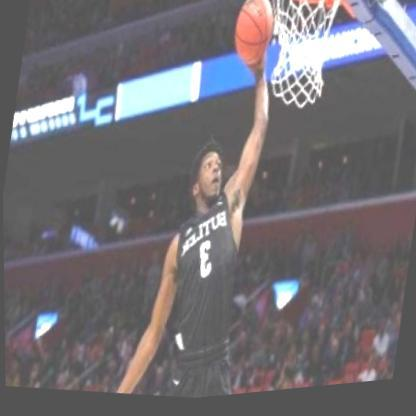basketball: (220, 0, 283, 81)
rim: (254, 0, 350, 113)
